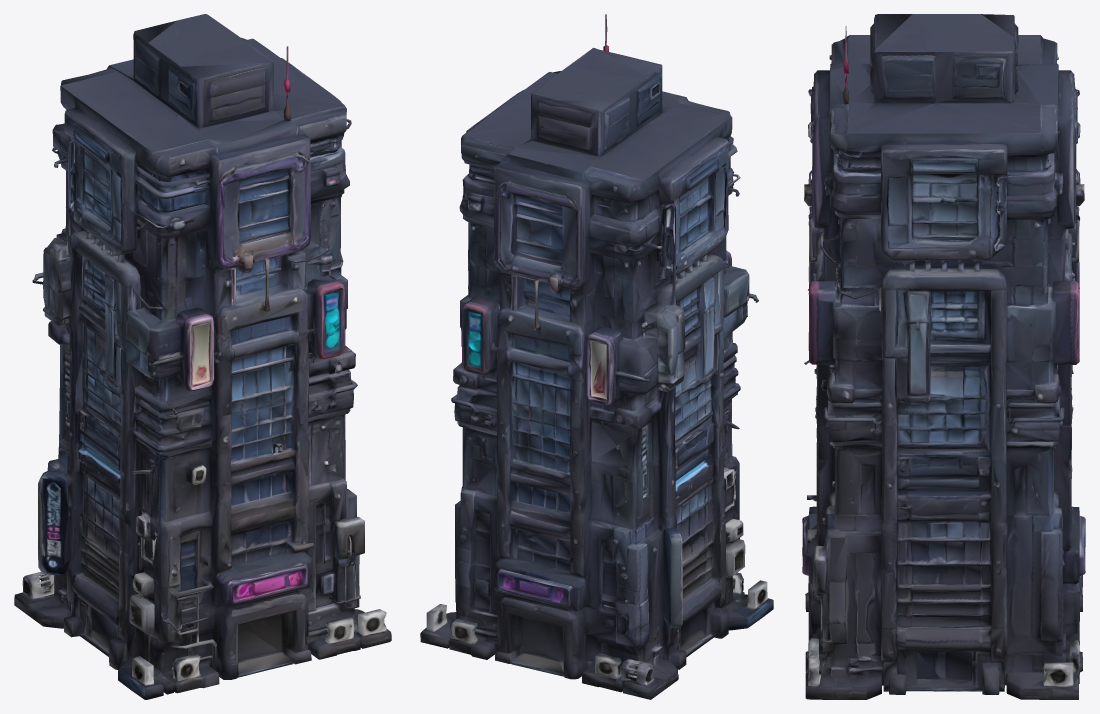
The model's file is bld_kuro_tower.fbx.
3 views of the same model, side by side, from view 1: azimuth 30°, elevation 25°; view 2: azimuth 150°, elevation 25°; view 3: azimuth 270°, elevation 25° (orthographic). The views are drawn at different scales.
Parts seen in each view (by area): view 1: bld_kuro_tower_LOD0; view 2: bld_kuro_tower_LOD0; view 3: bld_kuro_tower_LOD0.
Part boxes in pixels (box(x1,y1,x2,y2)): bld_kuro_tower_LOD0: box(14, 14, 391, 699); bld_kuro_tower_LOD0: box(420, 14, 773, 699); bld_kuro_tower_LOD0: box(802, 14, 1085, 699).
Size of what is drawn, in the model's own units: 0.4262 by 0.9816 by 0.3983.
